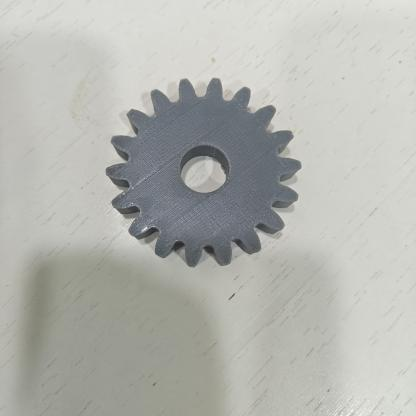gear: (106, 78, 301, 267)
